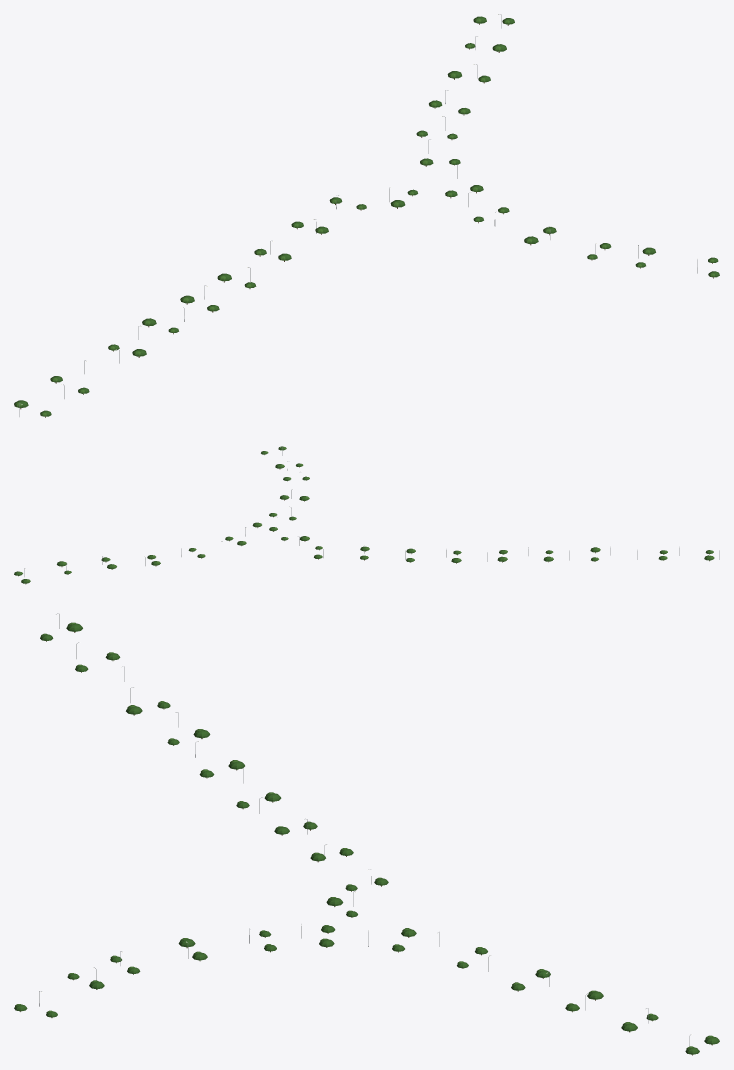
The model's file is pb_jei_3.glb.
3 renders of one model, top to bottom at view 1: azimuth 30°, elevation 25°; view 2: azimuth 150°, elevation 25°; view 3: azimuth 270°, elevation 25°, orthographic. The views are drawn at different scales.
Visible parts, largest first — view 1: pb_jei_3_lod0; view 2: pb_jei_3_lod0; view 3: pb_jei_3_lod0.
Boxes of the visible parts, <box> form: pb_jei_3_lod0: <box>14,14,719,417</box>; pb_jei_3_lod0: <box>14,446,719,584</box>; pb_jei_3_lod0: <box>14,613,719,1055</box>.
Size of what is drawn, in the model's own units: 582 by 19.97 by 410.
